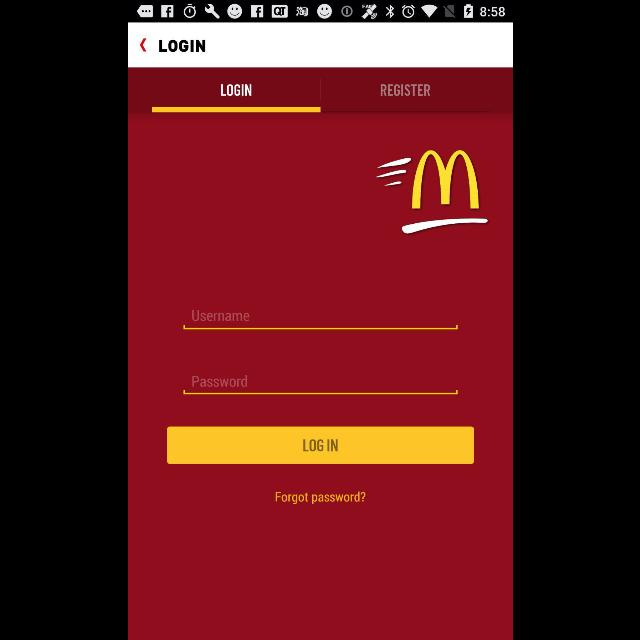icon: (138, 38, 146, 52)
image: (375, 150, 487, 234)
input: (182, 375, 458, 395), (182, 310, 458, 330)
multitab: (128, 68, 512, 112)
text: (275, 492, 365, 504), (191, 310, 249, 322), (192, 376, 246, 388), (380, 84, 430, 96), (159, 40, 205, 52), (220, 84, 252, 96)
textbutton: (166, 426, 474, 464)
toolbar: (128, 23, 512, 67)
uppertaskbar: (128, 1, 512, 23)
